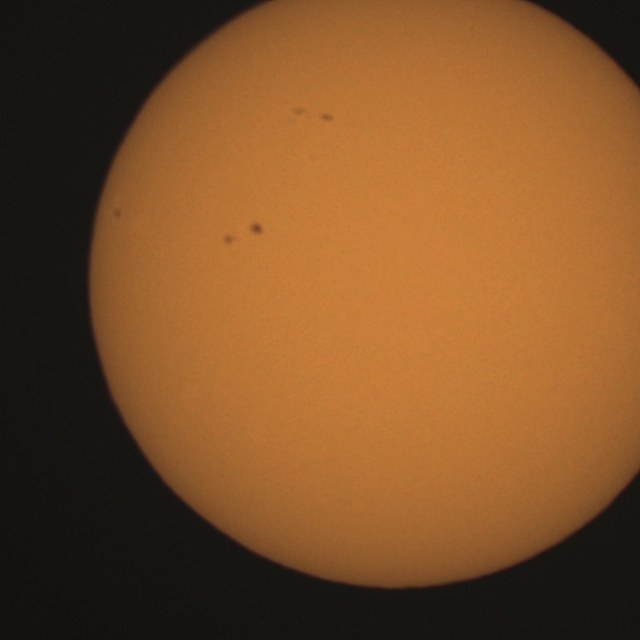sunspot: (248, 221, 265, 238), (319, 110, 335, 125), (221, 232, 237, 247), (112, 206, 123, 221)
